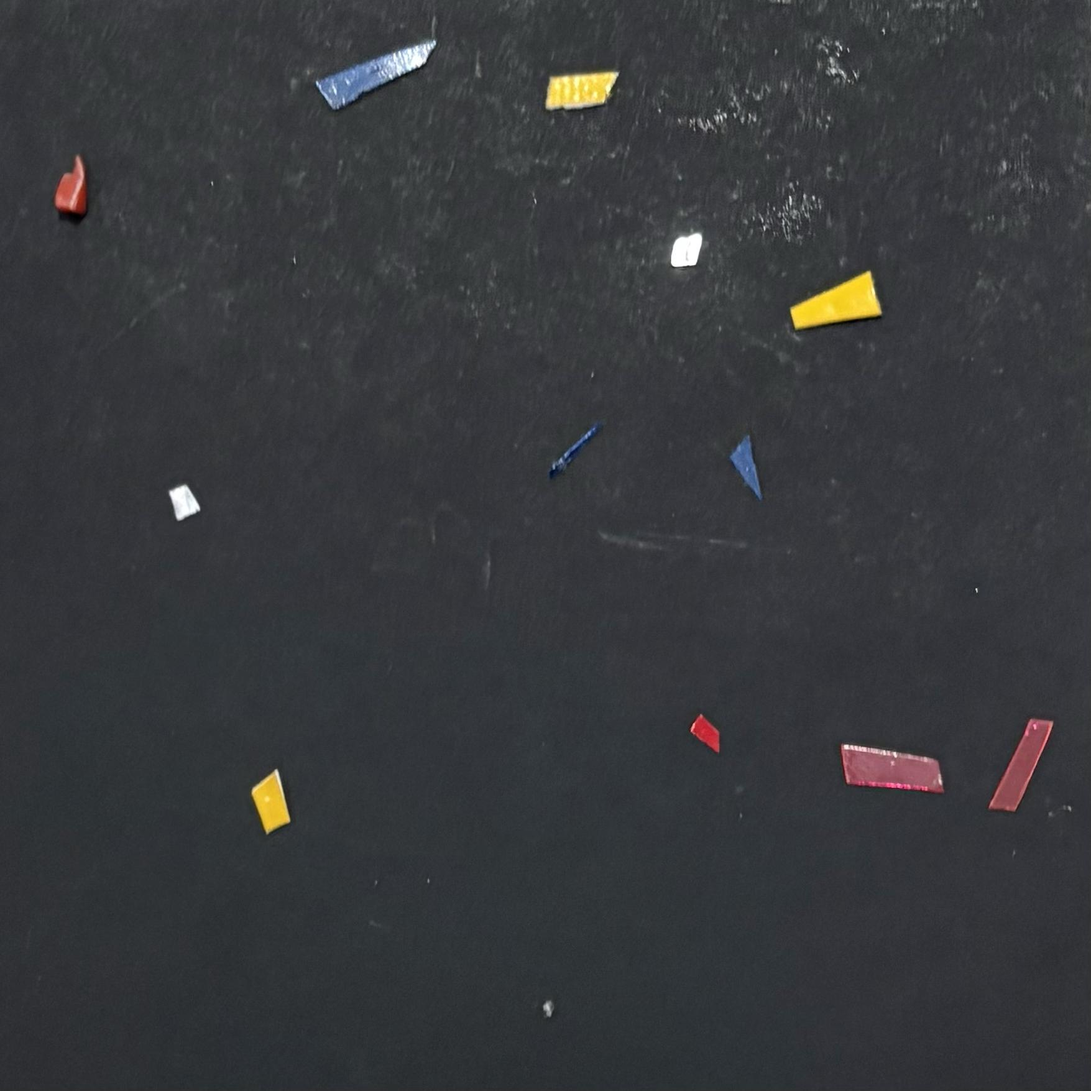Microplastic Particle: (316, 39, 436, 110), (988, 718, 1053, 812), (790, 270, 881, 330), (841, 744, 943, 793), (53, 145, 91, 228), (549, 421, 602, 479), (545, 70, 619, 111), (251, 769, 290, 835), (730, 433, 762, 500), (168, 484, 200, 521), (690, 714, 720, 753), (670, 232, 702, 268), (537, 997, 564, 1022)
